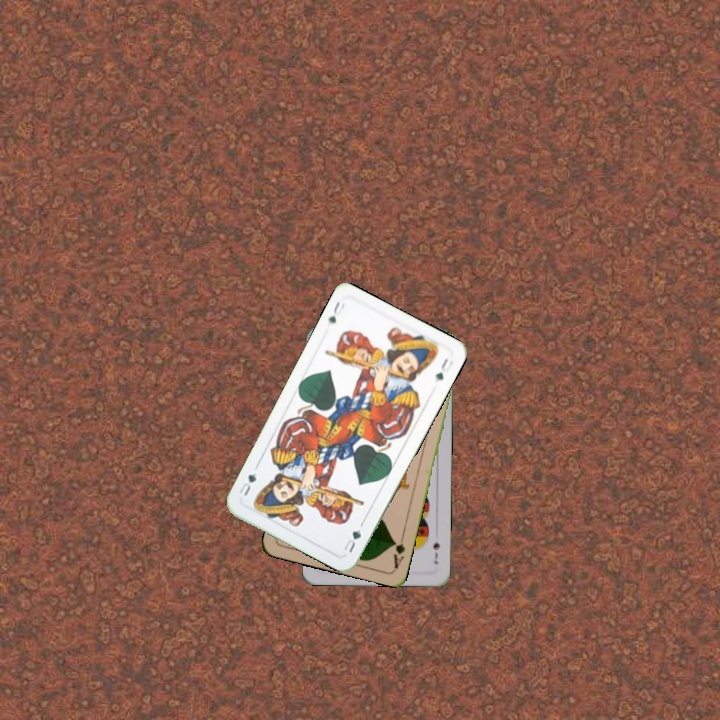GA: (389, 531, 408, 571)
GU: (340, 525, 364, 555), (324, 297, 347, 326)
S7: (429, 538, 442, 566)
